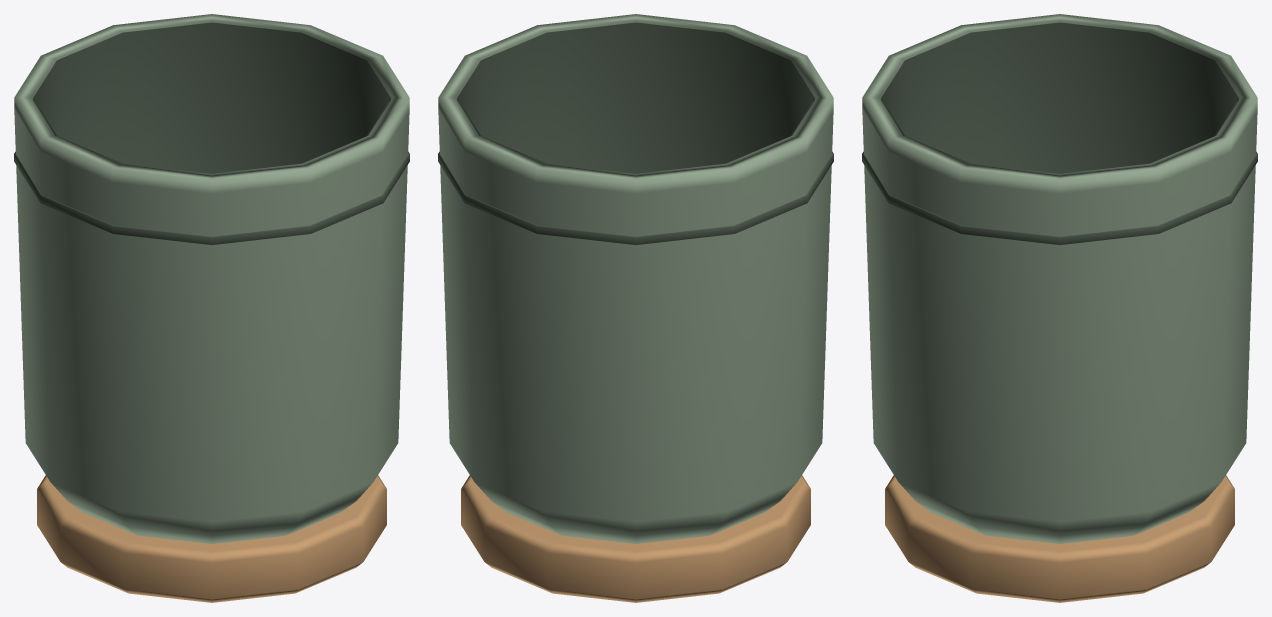
The model's file is modern_pot.glb.
The picture shows the model from 3 angles, left to right: view 1: azimuth 30°, elevation 25°; view 2: azimuth 150°, elevation 25°; view 3: azimuth 270°, elevation 25°; orthographic projection.
Visible parts, largest first — view 1: body, cavity, plinth, groove; view 2: body, cavity, plinth, groove; view 3: body, cavity, plinth, groove.
Part boxes in pixels (left/top/right/bottom): body: left=14, top=14, right=409, bottom=543; cavity: left=33, top=22, right=390, bottom=173; plinth: left=37, top=475, right=386, bottom=602; groove: left=14, top=152, right=409, bottom=244; body: left=438, top=14, right=833, bottom=543; cavity: left=457, top=22, right=814, bottom=173; plinth: left=461, top=475, right=810, bottom=602; groove: left=438, top=152, right=833, bottom=244; body: left=862, top=14, right=1257, bottom=543; cavity: left=881, top=22, right=1238, bottom=173; plinth: left=885, top=475, right=1234, bottom=602; groove: left=862, top=152, right=1257, bottom=244.
Bounding box in the file's own units: 0.2804 × 0.34 × 0.2804.
